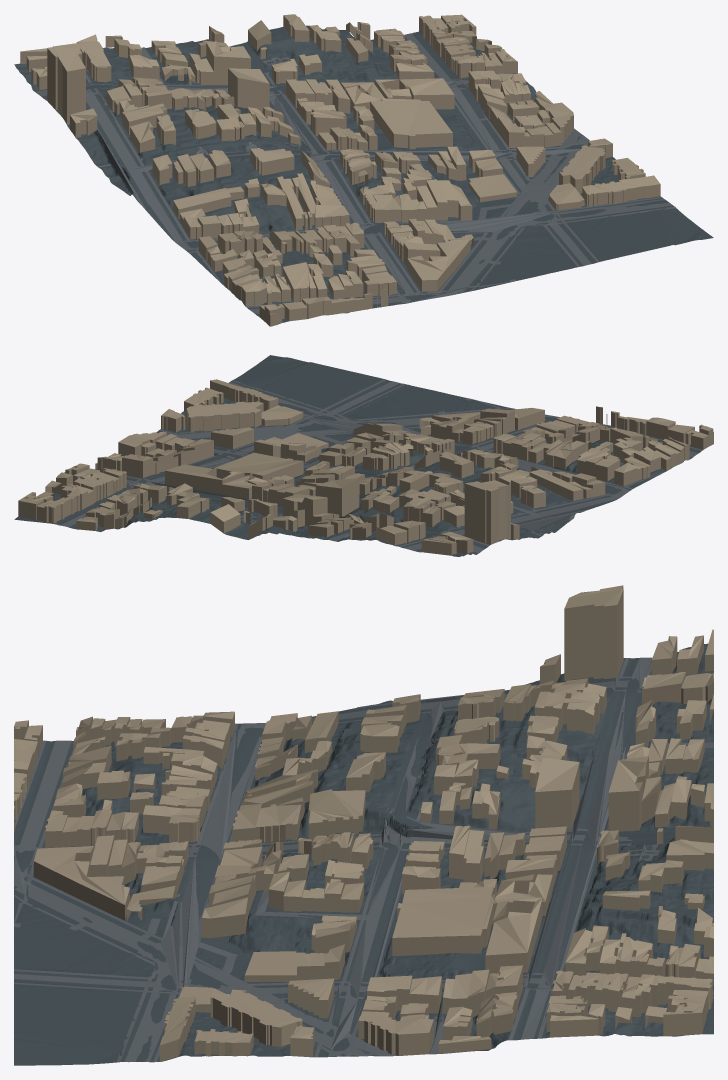
File: epsg26910-1435-10896.lod0.glb
The picture shows the model from 3 angles, top to bottom: view 1: azimuth 30°, elevation 25°; view 2: azimuth 150°, elevation 25°; view 3: azimuth 270°, elevation 25°; orthographic projection. The views are drawn at different scales.
Parts seen in each view (by area): view 1: epsg26910-1435-10896-lod0; view 2: epsg26910-1435-10896-lod0; view 3: epsg26910-1435-10896-lod0.
Boxes of the visible parts, x1=… form: epsg26910-1435-10896-lod0: x1=14, y1=14, x2=713, y2=326; epsg26910-1435-10896-lod0: x1=14, y1=355, x2=713, y2=556; epsg26910-1435-10896-lod0: x1=14, y1=585, x2=713, y2=1065.
Size of the model in its own units: 384 by 112 by 384.
